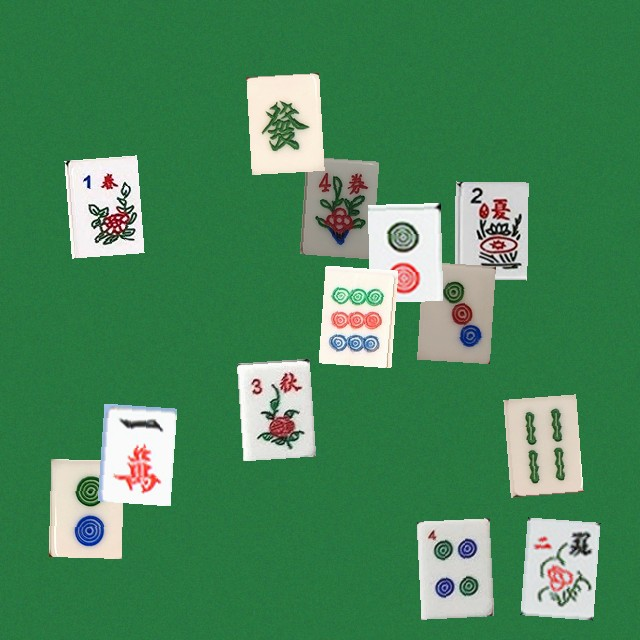tile: (416, 518, 489, 616), (64, 155, 137, 253), (48, 458, 121, 556), (299, 156, 372, 254), (236, 358, 309, 456), (503, 394, 576, 492), (454, 181, 527, 279), (417, 261, 490, 359), (520, 517, 593, 615), (367, 203, 440, 301), (97, 403, 170, 501), (246, 72, 319, 170), (318, 265, 391, 363)
